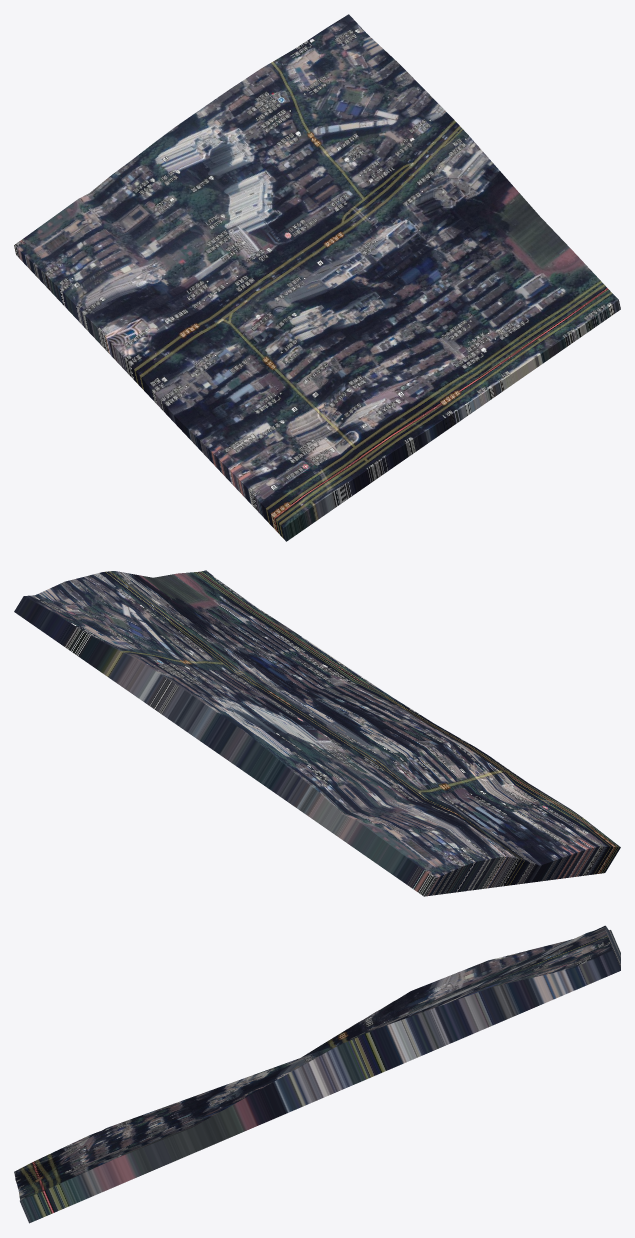
3 renders of one model, top to bottom at view 1: azimuth 30°, elevation 25°; view 2: azimuth 150°, elevation 25°; view 3: azimuth 270°, elevation 25°, orthographic. The views are drawn at different scales.
Parts seen in each view (by area): view 1: 0_8_18; view 2: 0_8_18; view 3: 0_8_18.
Part boxes in pixels (x1,y1,x2,y2): 0_8_18: (14,14,620,541); 0_8_18: (14,570,620,896); 0_8_18: (14,925,620,1223).
Bounding box in the file's own units: 601 × 445 × 556.
Materials: 1 (1 with a texture image).
